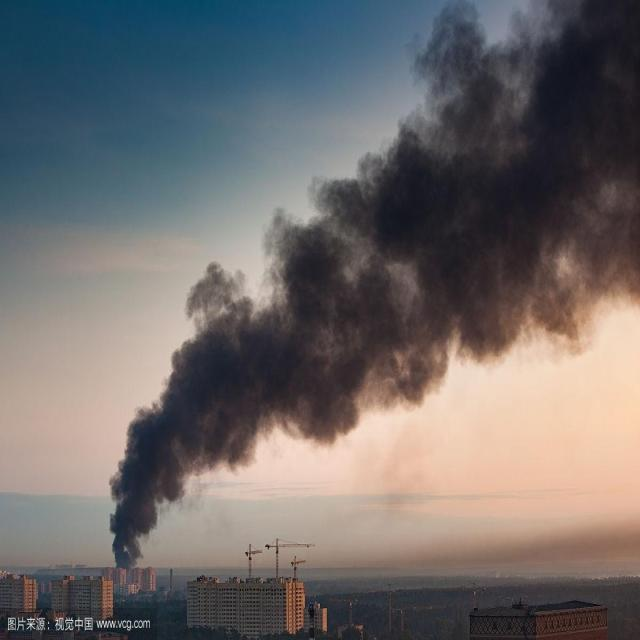Smoke: (109, 1, 640, 569)
